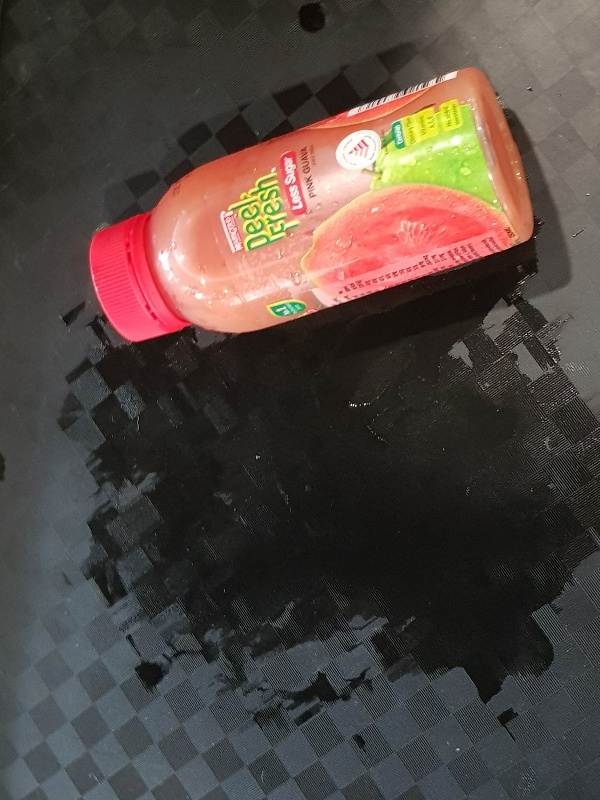Marigold Peel Fresh Pink Guava Juice Drink: (86, 66, 534, 344)
